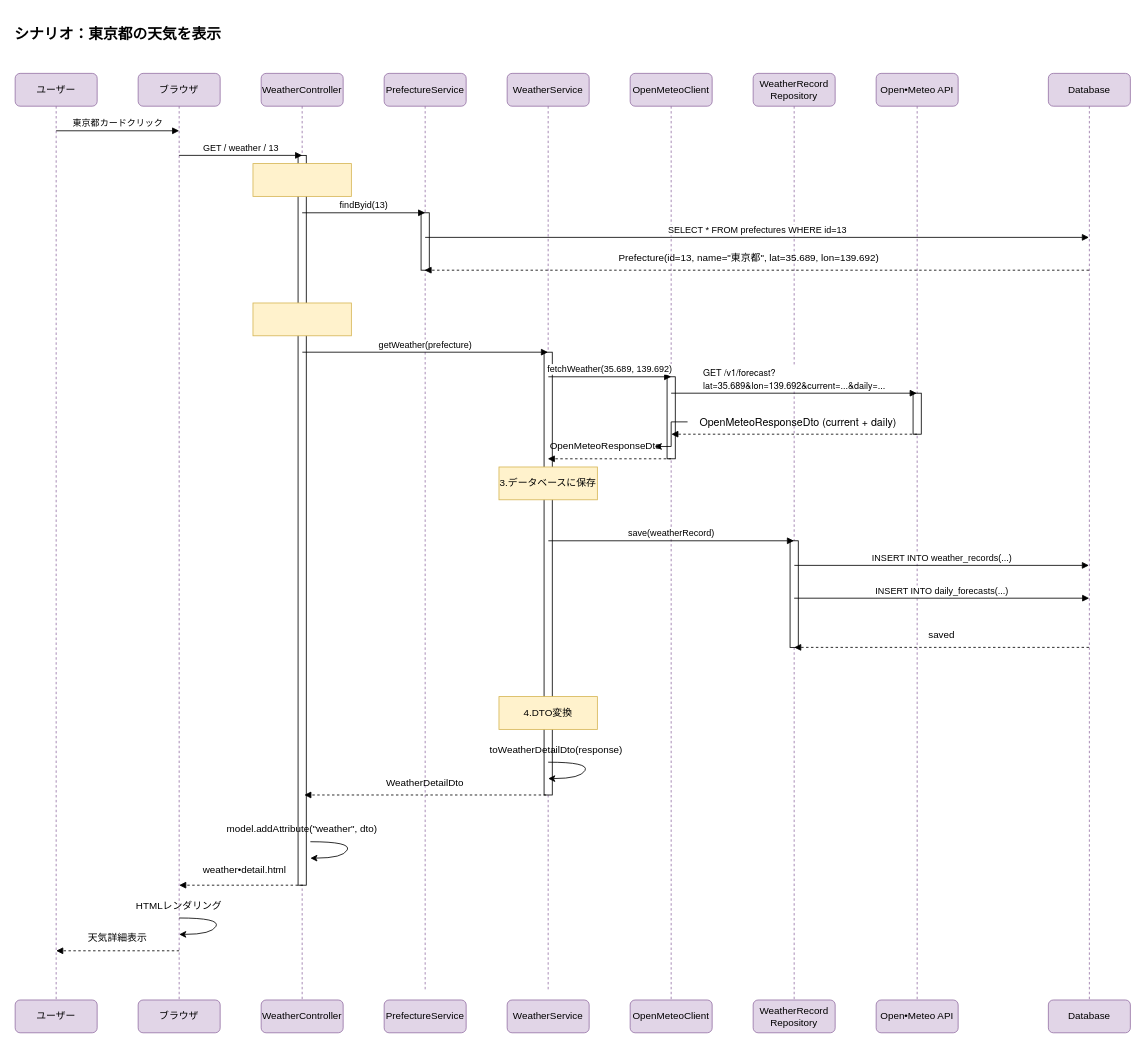
The diagram is 1145 pixels wide and 1047 high, and some of its shapes have lost their labels. Each missing label, with the centre of its shape:
1.都道府県情報取得: point 301,179
2.天気情報取得: point 301,319
